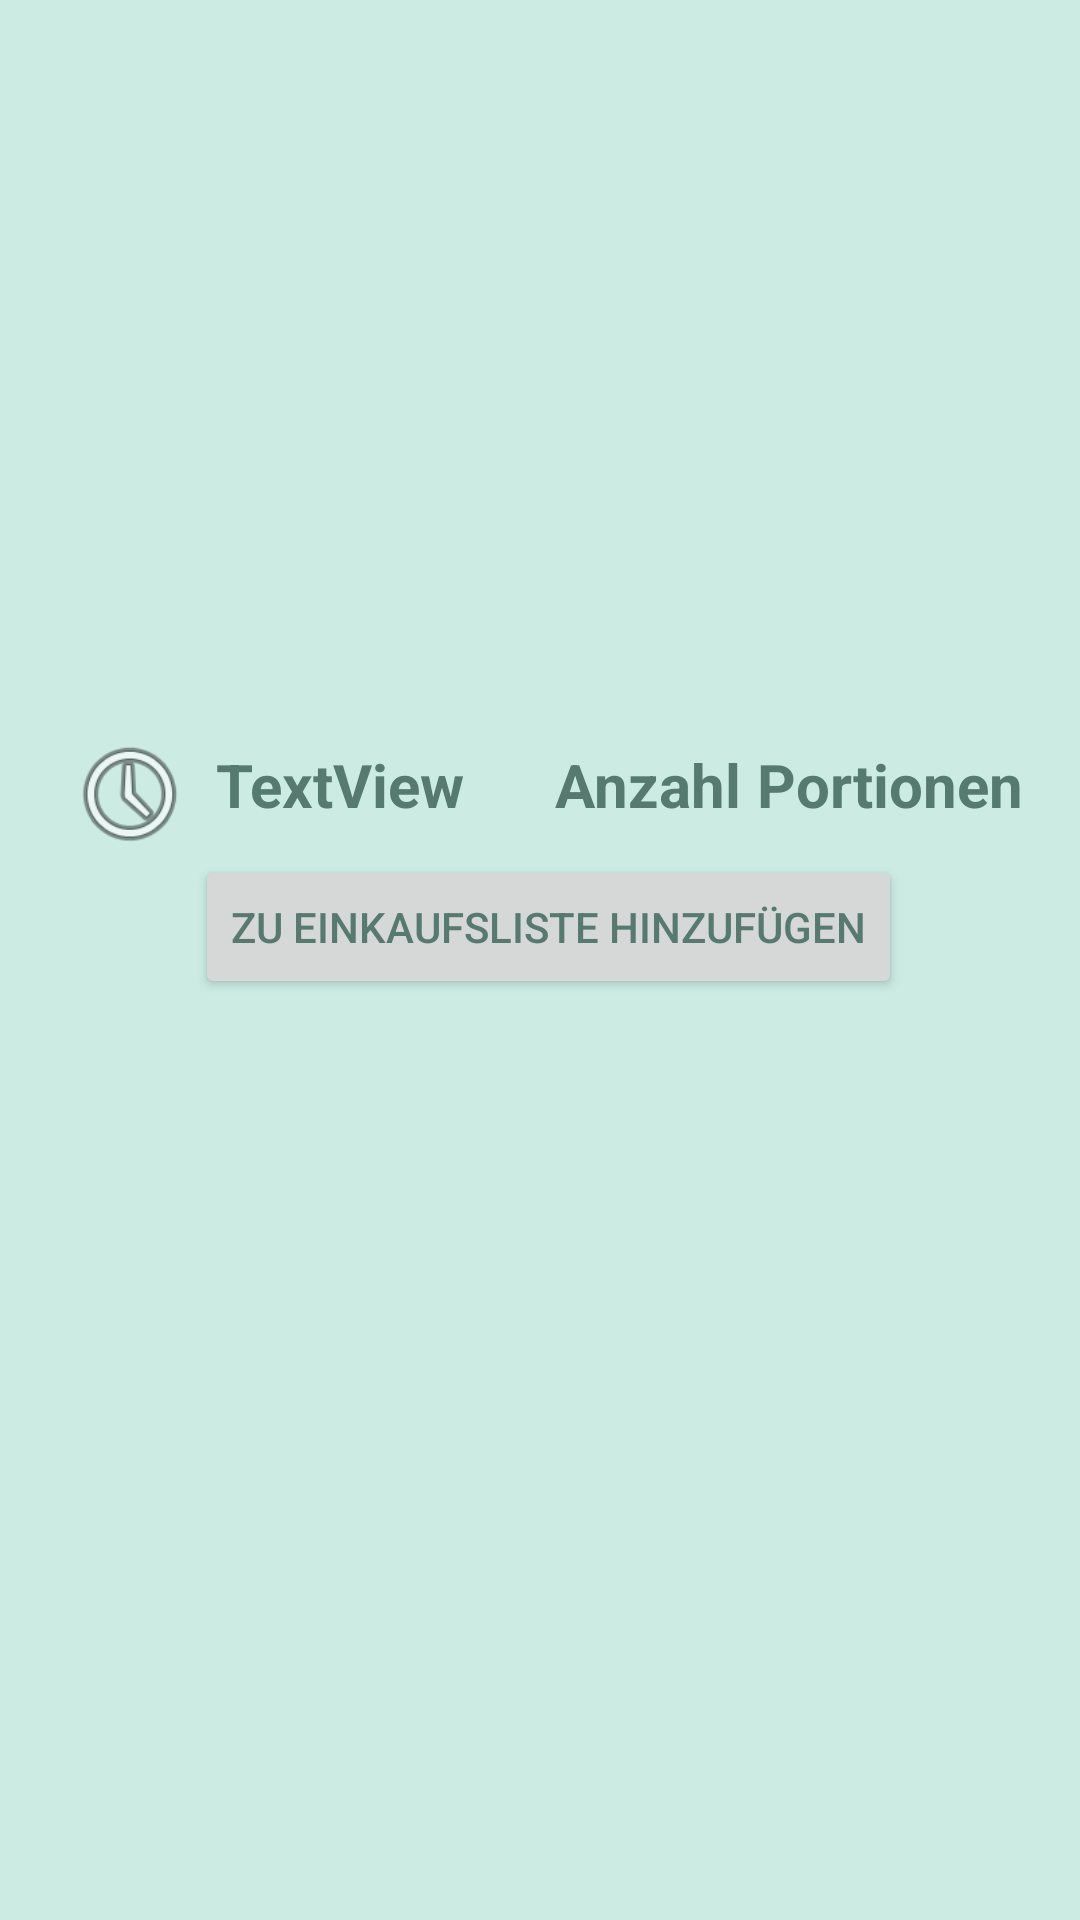

Screen size 1080 x 1920. Icon name, then its center in pixels as (x=x, y=y):
recent history: (x=130, y=794)
